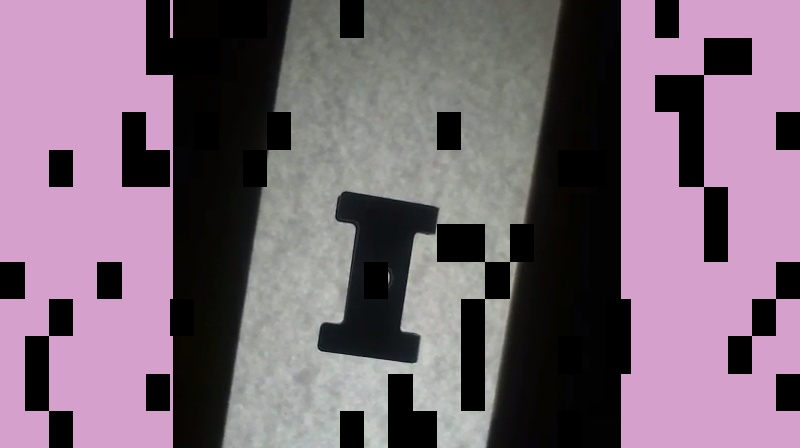O002: (316, 187, 441, 365)
